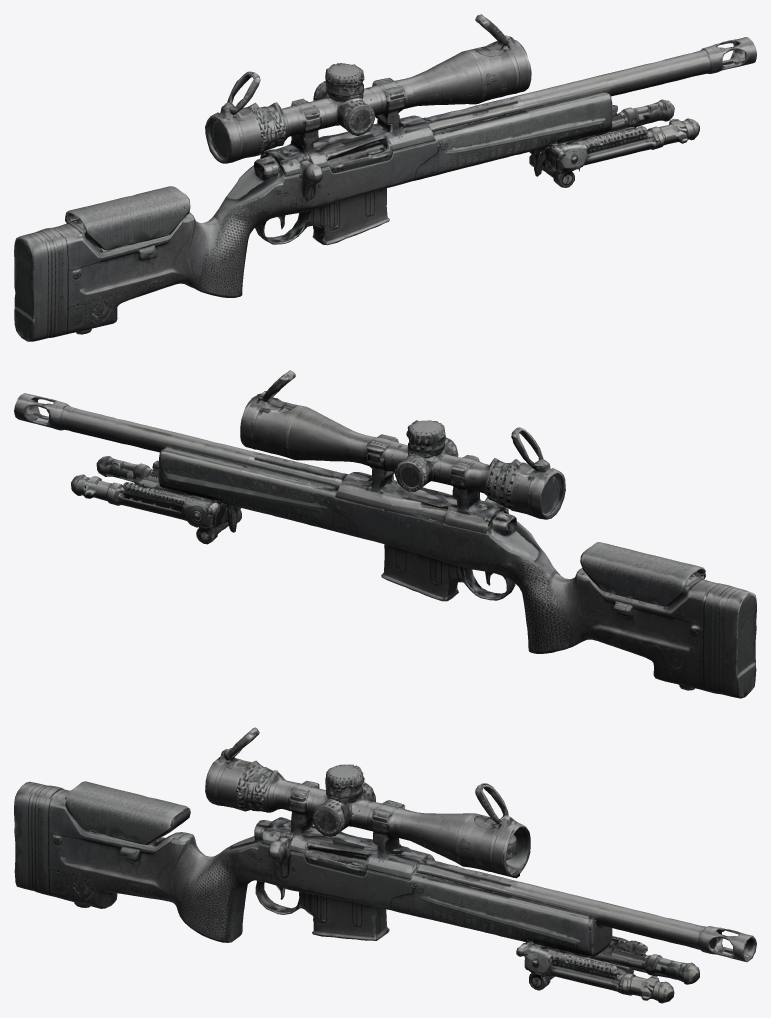
The model's file is SniperRifle.glb.
3 views of the same model, one above another, from view 1: azimuth 30°, elevation 25°; view 2: azimuth 150°, elevation 25°; view 3: azimuth 330°, elevation 25° (orthographic).
Visible parts, largest first — view 1: texture_mapping; view 2: texture_mapping; view 3: texture_mapping.
Part boxes in pixels (bbox=[...]): texture_mapping: bbox=[14, 14, 756, 341]; texture_mapping: bbox=[14, 370, 756, 698]; texture_mapping: bbox=[14, 727, 756, 1003].
Size of the model in its own units: 1 by 0.2886 by 0.1073.
Materials: 1 (1 with a texture image).
